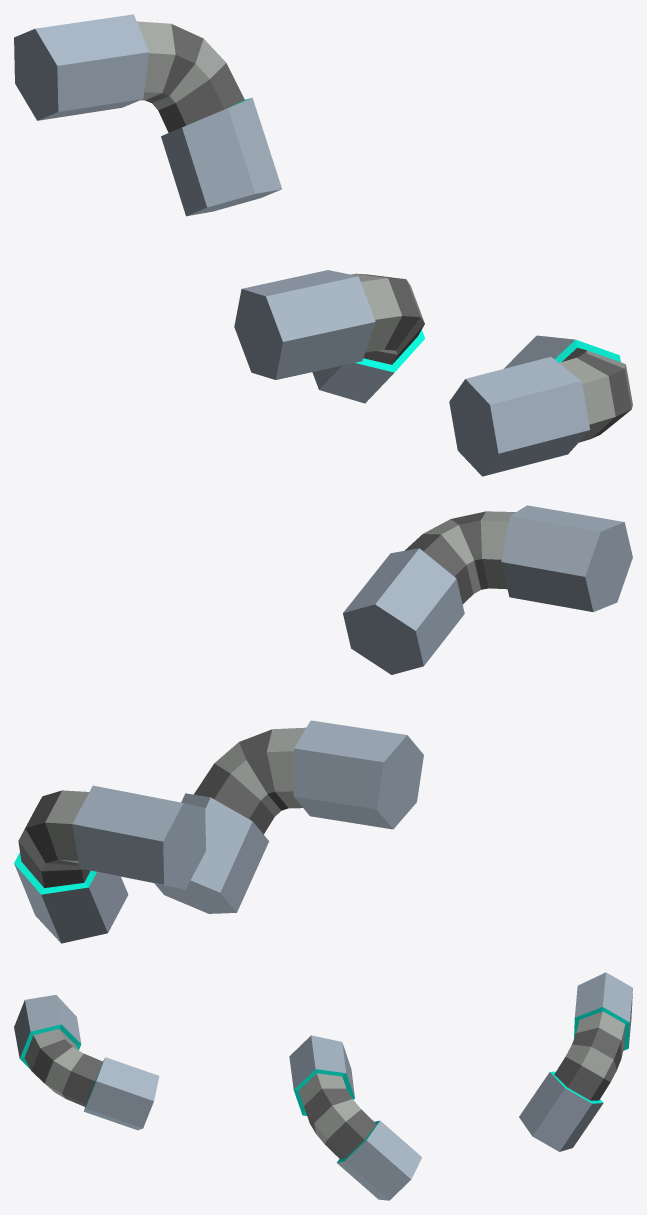
The model's file is Freighter_Pipes.02.fbx.
3 views of the same model, one above another, from view 1: azimuth 30°, elevation 25°; view 2: azimuth 150°, elevation 25°; view 3: azimuth 270°, elevation 25° (orthographic). The views are drawn at different scales.
Parts seen in each view (by area): view 1: Pipes_02_LOD0; view 2: Pipes_02_LOD0; view 3: Pipes_02_LOD0.
Boxes of the visible parts, left/top/right/bottom form: Pipes_02_LOD0: left=14, top=14, right=632, bottom=476; Pipes_02_LOD0: left=14, top=505, right=632, bottom=943; Pipes_02_LOD0: left=14, top=972, right=632, bottom=1200.
Size of what is drawn, in the model's own units: 2432 by 3454 by 10767.
1 material, 1 textured.
